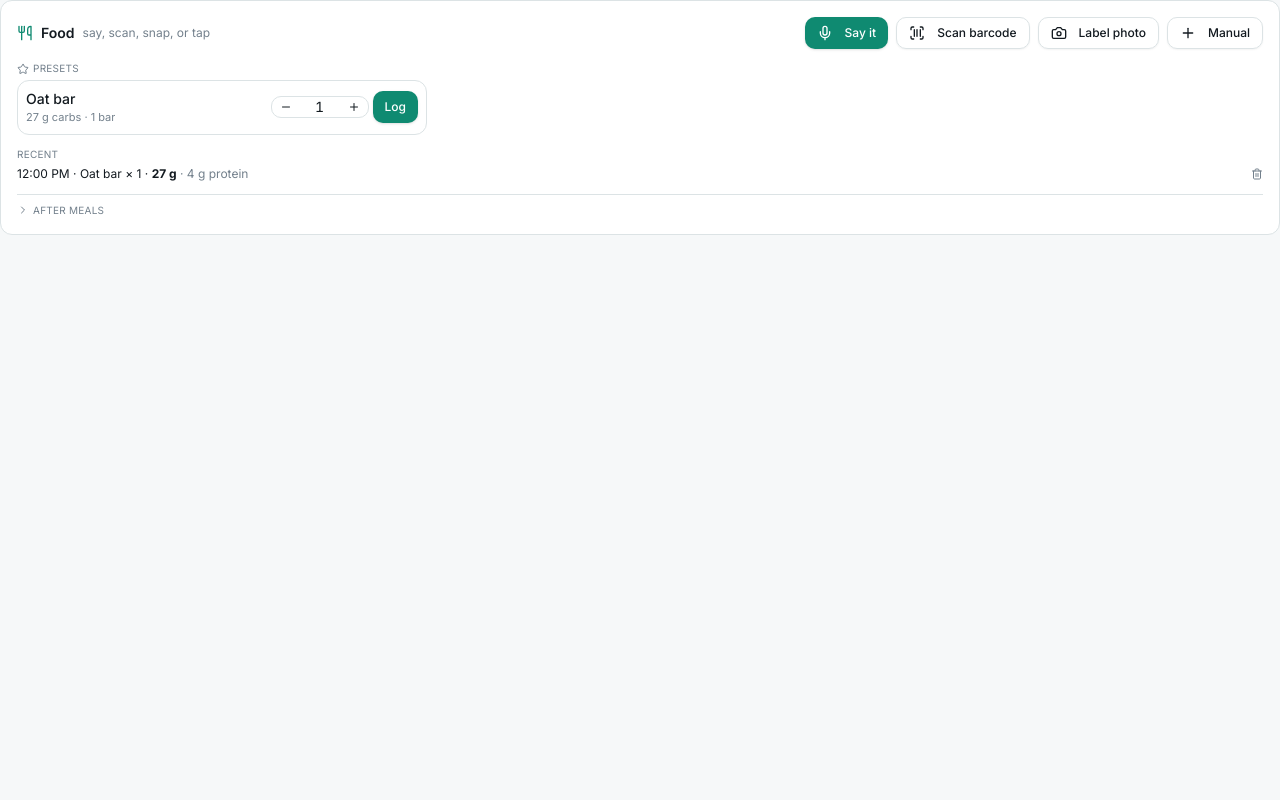
Test case: FoodLogger voice › removing a food updates the totals
Expected: the text "Oat bar" is shown, [26,90,75,107]
Click the button "Say it".
click(846, 33)  # box [804,17,888,49]
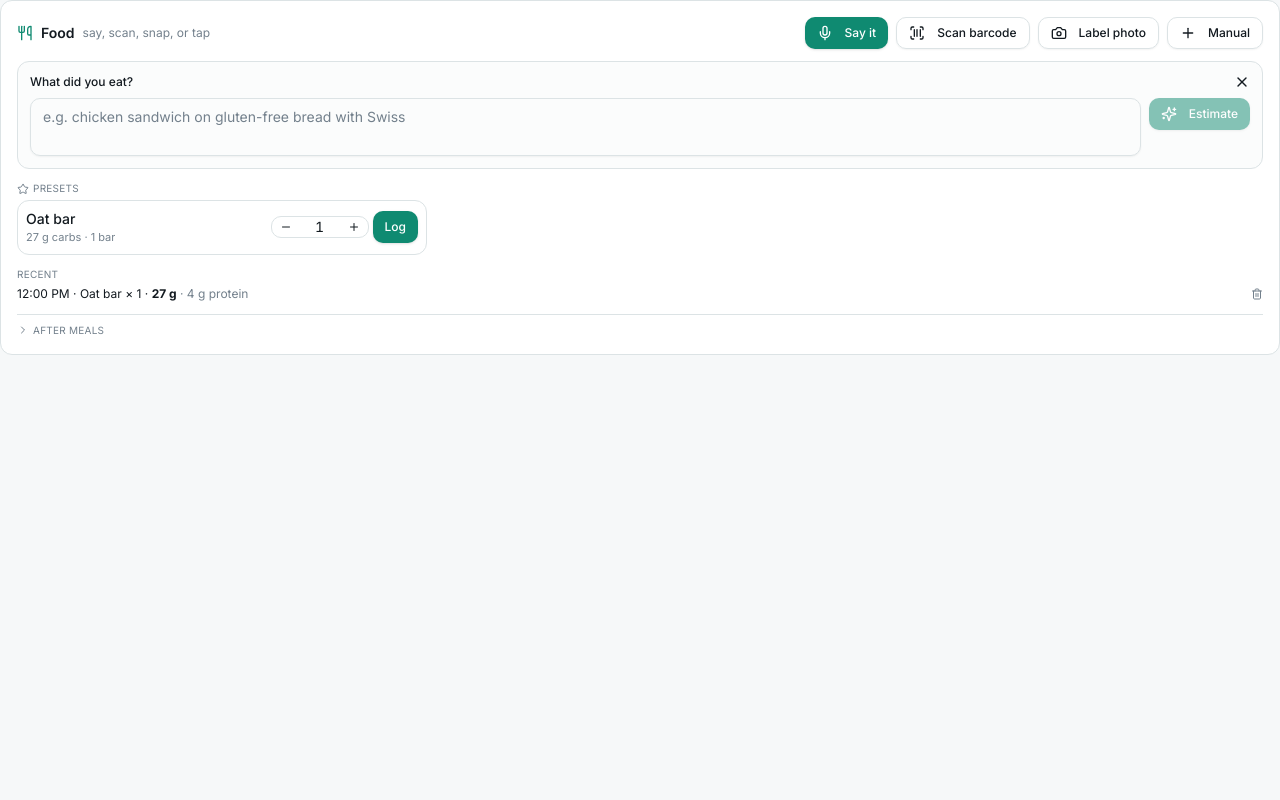
Type "sandwich" into the text box named "what you ate".
click(585, 127); type("sandwich")  # box [30,98,1141,156]
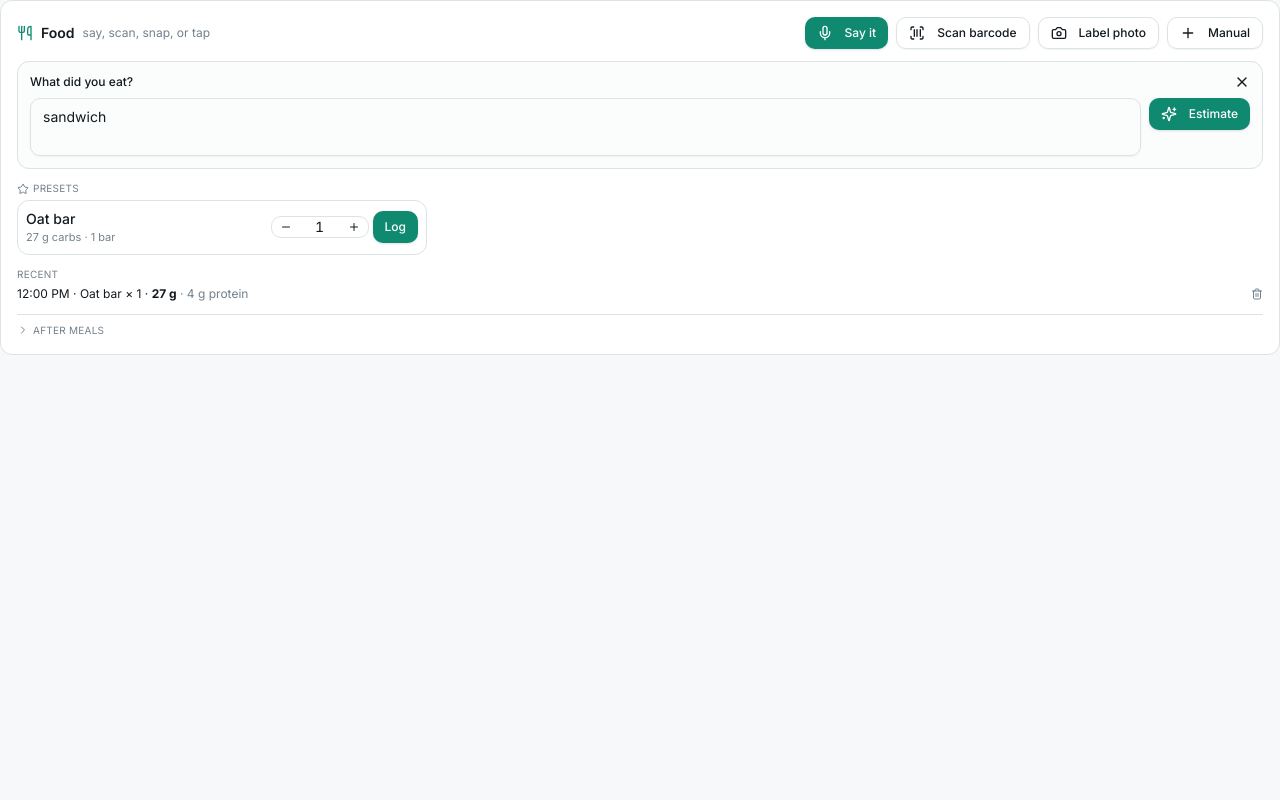
Click the button "Estimate".
click(1199, 114)  # box [1149,98,1250,130]
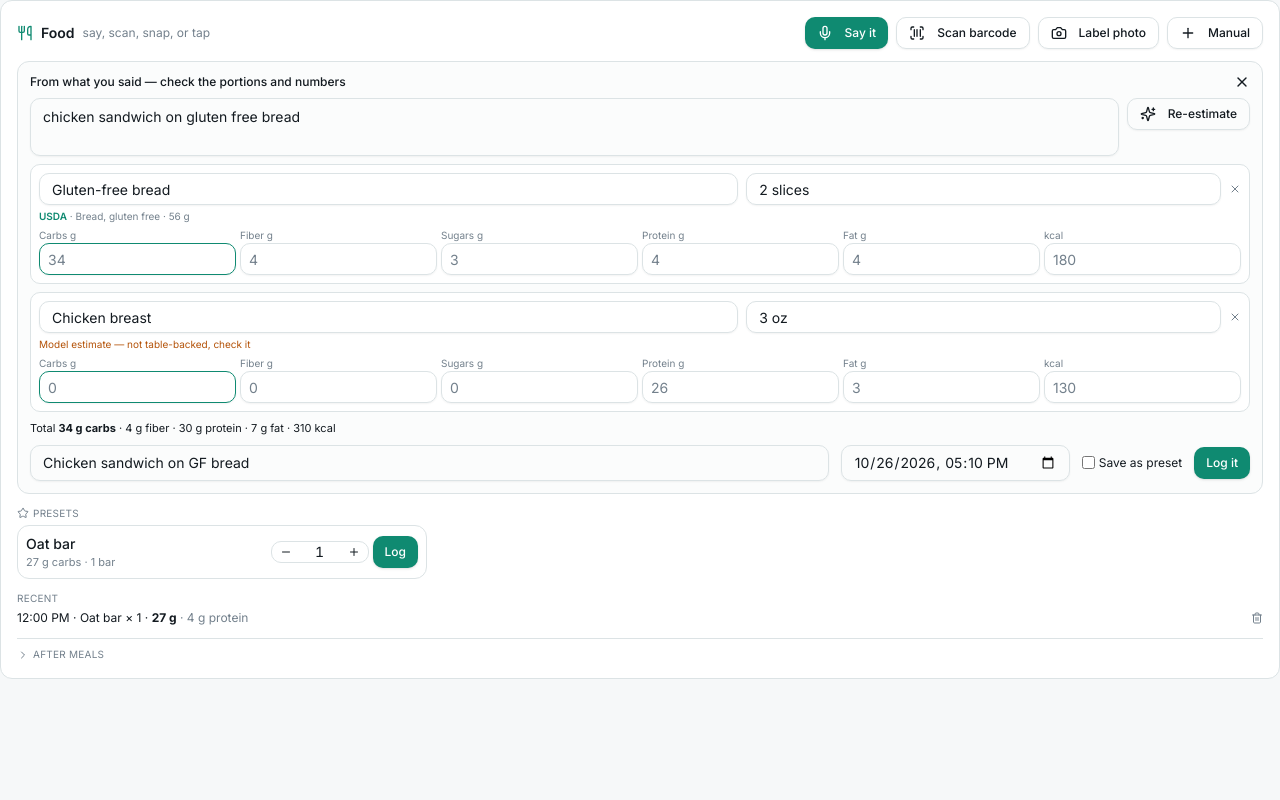
Now the field showing "Chicken breast" is shown, box [39,301,738,333]
Click the button named "remove Gluten-free bread".
click(1235, 189)  # box [1229,183,1241,195]
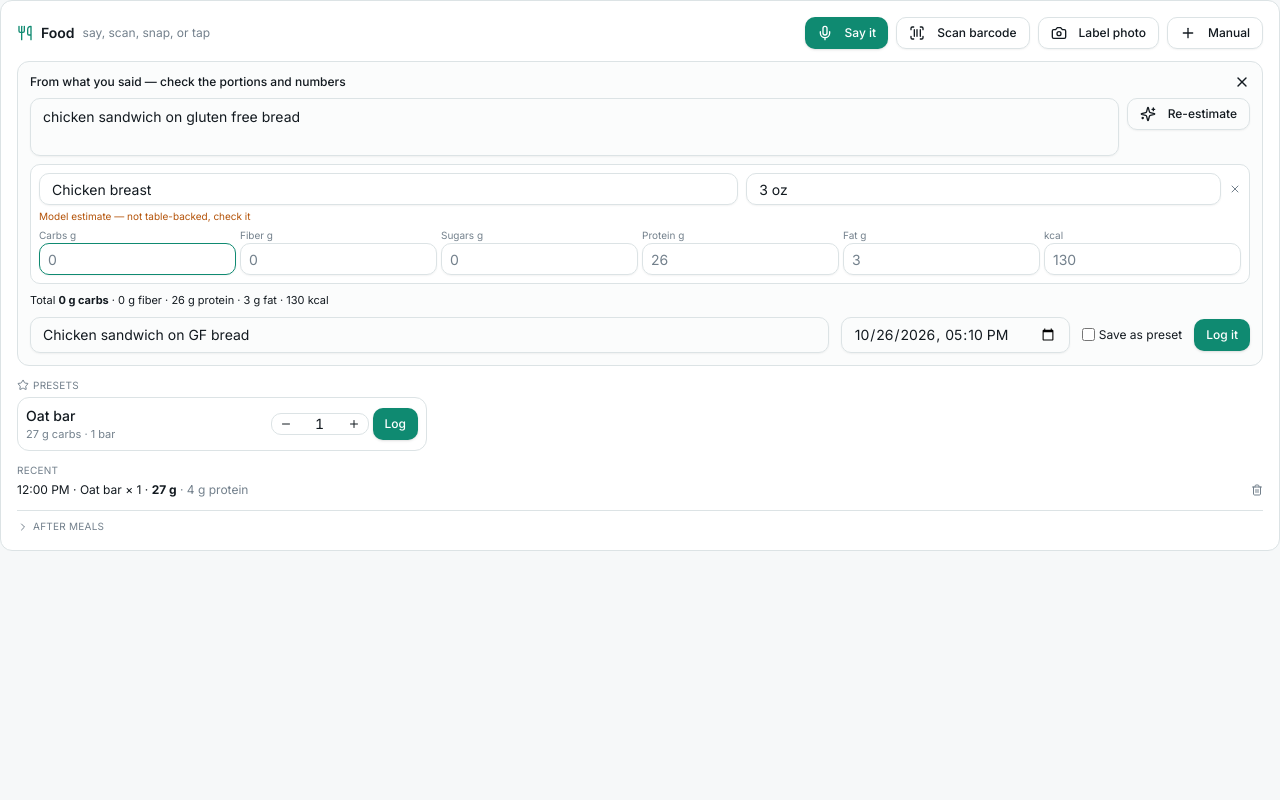
Expected: the field showing "Gluten-free bread" is not shown
Now the text "0 g carbs" is shown, box [58,293,109,307]
